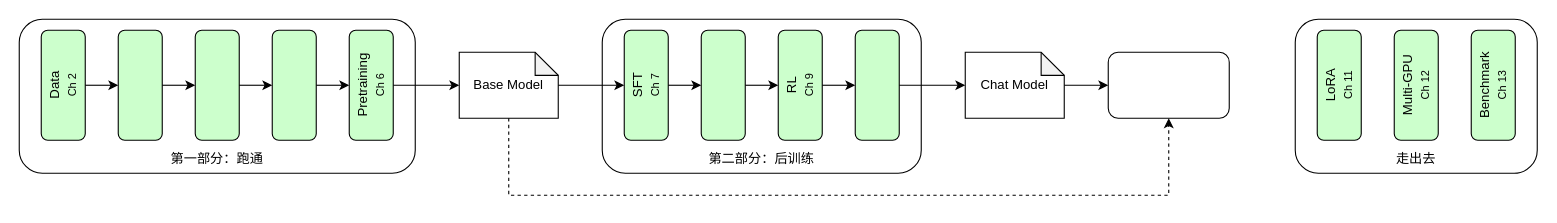
Image size: 1557x223. Some labels were removed from this diagram. Here are the shapes that lost their labels. From the top down, the centre of each, then its label:
At [139,84]: "Tokenizer Ch 3".
At [216,84]: "Model Ch 4".
At [293,84]: "Training Loop Ch 5".
At [722,84]: "Preference Ch 8".
At [876,84]: "Distillation Ch 10".
At [1168,84]: "Inference Engine (Book 1)".
